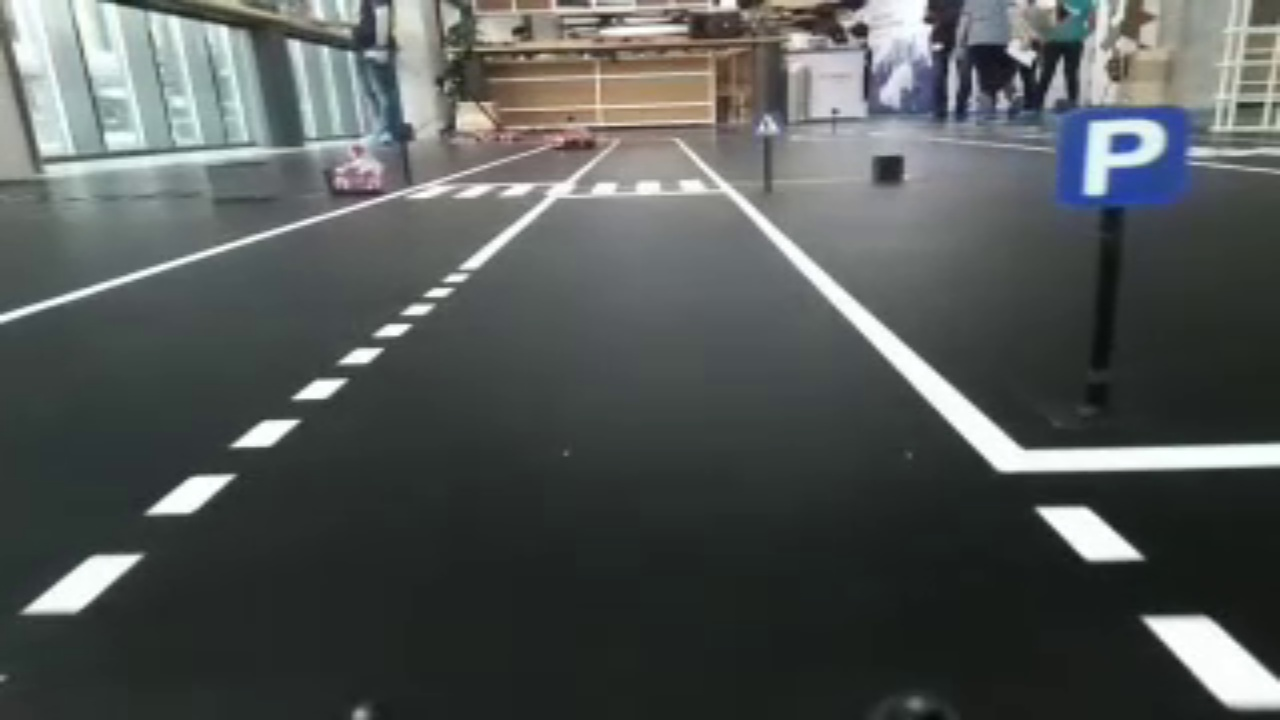car: (546, 125, 598, 154), (476, 129, 519, 146)
pedestrian: (322, 143, 389, 199)
sign: (1057, 107, 1188, 207), (752, 111, 783, 141)
